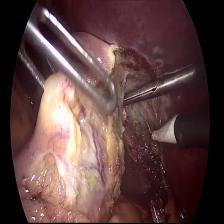Grasper: (17, 3, 124, 159), (121, 52, 190, 108)
Hook: (140, 112, 180, 154)
